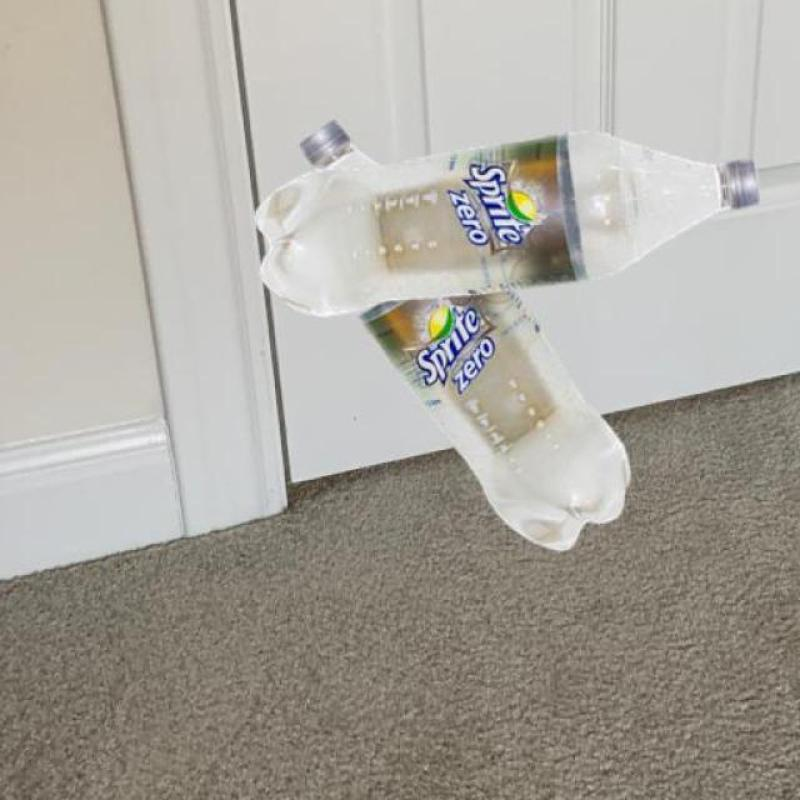botella: (302, 116, 632, 552), (256, 126, 770, 323)
